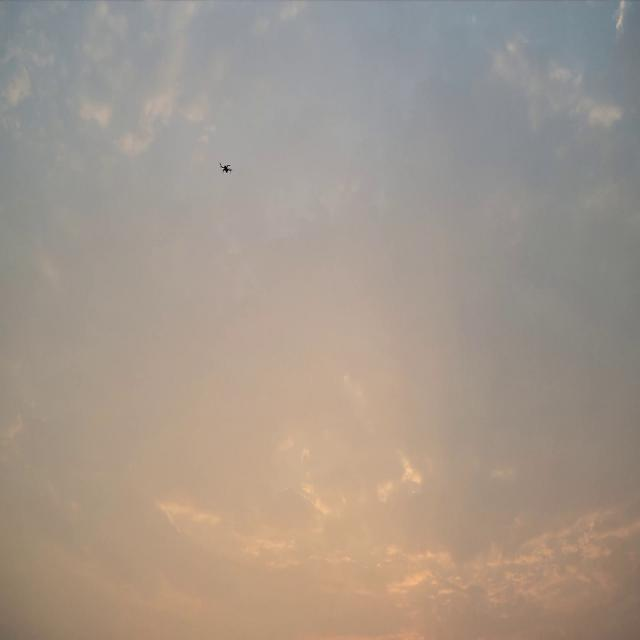drone: (219, 162, 234, 174)
